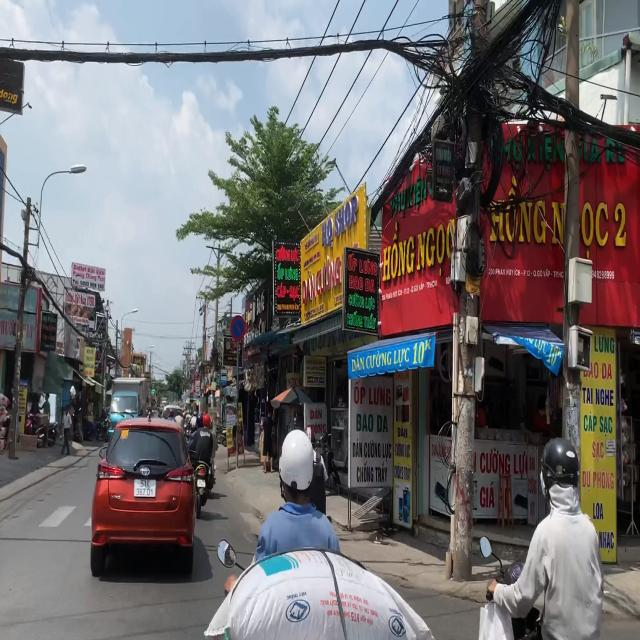Cam do: (230, 315, 246, 341)
